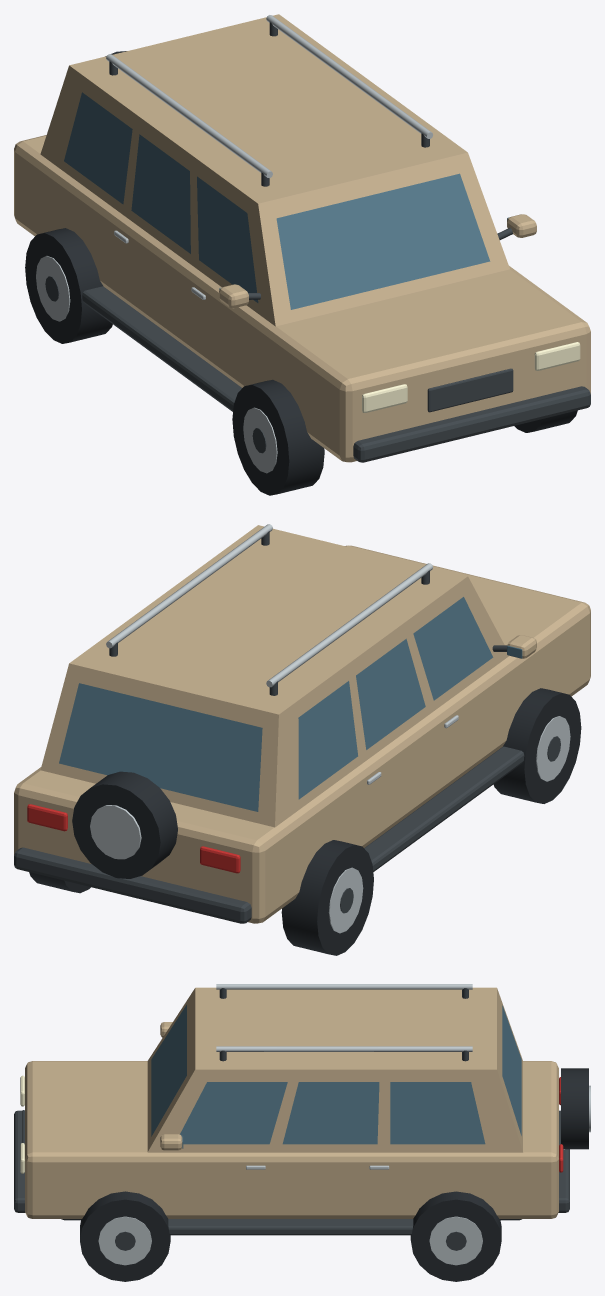
The model's file is car_suv.glb.
3 renders of one model, top to bottom at view 1: azimuth 30°, elevation 25°; view 2: azimuth 150°, elevation 25°; view 3: azimuth 270°, elevation 25°, orthographic. The views are drawn at different scales.
Parts seen in each view (by area): view 1: SUV cabin shell, Main body, SUV windshield, Left front wheel tire, Front bumper, Left rear wheel tire, Side step, SUV left window 2, SUV left window 3, SUV left window 1, Front grille, Roof rail.001 (+6 smaller); view 2: SUV cabin shell, Main body, SUV rear glass, Rear mounted spare tire, Left rear wheel tire, Rear bumper, Left front wheel tire, Side step, SUV left window 3, SUV left window 2, SUV left window 1, Spare wheel center (+6 smaller); view 3: Main body, SUV cabin shell, SUV right window 3, SUV right window 2, SUV right window 1, Right rear wheel tire, Right front wheel tire, Side step.001, SUV windshield, Rear mounted spare tire, Right rear wheel rim, Right front wheel rim (+5 smaller).
Part boxes in pixels (bbox=[...]): SUV cabin shell: bbox=[40, 14, 509, 326]; Main body: bbox=[14, 135, 590, 462]; SUV windshield: bbox=[276, 173, 490, 309]; Left front wheel tire: bbox=[232, 379, 324, 495]; Front bumper: bbox=[353, 386, 590, 462]; Left rear wheel tire: bbox=[25, 228, 112, 343]; Side step: bbox=[82, 286, 241, 411]; SUV left window 2: bbox=[131, 134, 190, 253]; SUV left window 3: bbox=[64, 92, 132, 204]; SUV left window 1: bbox=[197, 176, 258, 302]; Front grille: bbox=[427, 368, 513, 412]; Roof rail.001: bbox=[266, 15, 432, 138]; SUV cabin shell: bbox=[40, 525, 509, 827]; Main body: bbox=[14, 545, 590, 923]; SUV rear glass: bbox=[59, 683, 262, 811]; Rear mounted spare tire: bbox=[72, 771, 177, 878]; Left rear wheel tire: bbox=[281, 840, 373, 955]; Rear bumper: bbox=[14, 847, 251, 923]; Left front wheel tire: bbox=[493, 688, 581, 803]; Side step: bbox=[364, 746, 524, 871]; SUV left window 3: bbox=[298, 681, 357, 799]; SUV left window 2: bbox=[356, 638, 425, 749]; SUV left window 1: bbox=[413, 597, 493, 700]; Spare wheel center: bbox=[90, 805, 141, 859]; Main body: bbox=[25, 1061, 558, 1218]; SUV cabin shell: bbox=[147, 987, 522, 1152]; SUV right window 3: bbox=[390, 1082, 485, 1144]; SUV right window 2: bbox=[282, 1082, 379, 1144]; SUV right window 1: bbox=[180, 1082, 287, 1144]; Right rear wheel tire: bbox=[410, 1191, 501, 1281]; Right front wheel tire: bbox=[80, 1191, 170, 1281]; Side step.001: bbox=[168, 1219, 413, 1235]; SUV windshield: bbox=[151, 1004, 186, 1136]; Rear mounted spare tire: bbox=[561, 1068, 588, 1149]; Right rear wheel rim: bbox=[429, 1216, 482, 1265]; Right front wheel rim: bbox=[98, 1216, 151, 1265].
Size of the model in its own units: 2.44 by 1.99 by 4.95.
